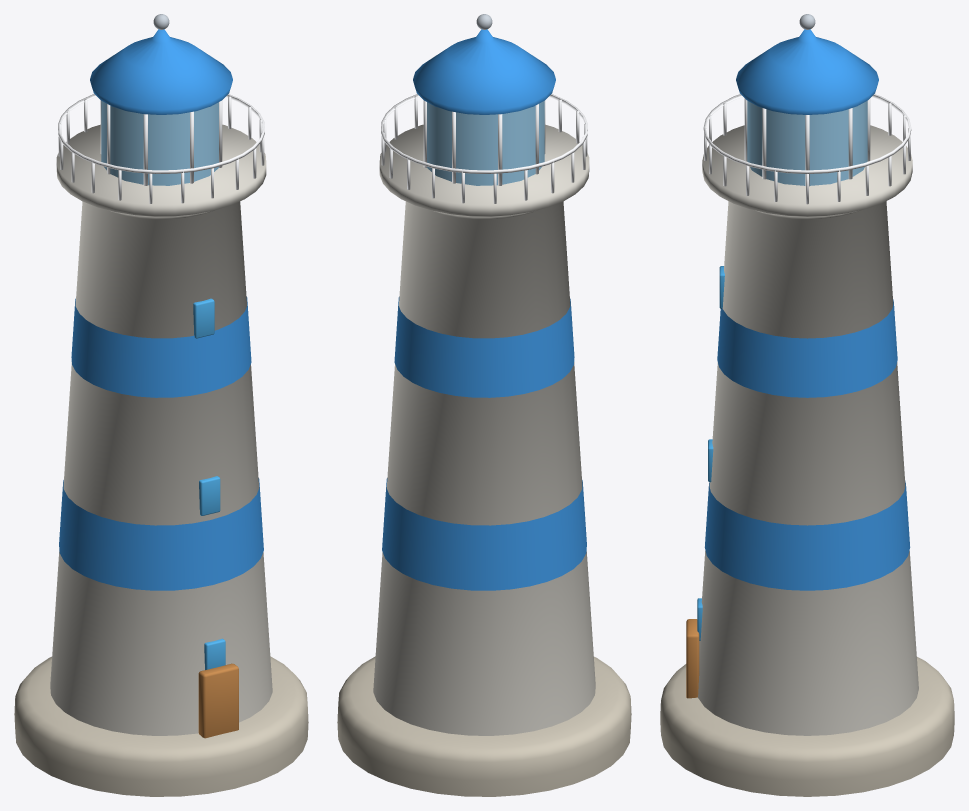
Rendered from lighthouse.glb.
3 renders of one model, left to right at view 1: azimuth 30°, elevation 25°; view 2: azimuth 150°, elevation 25°; view 3: azimuth 270°, elevation 25°, orthographic.
Visible parts, largest first — view 1: lighthouse; view 2: lighthouse; view 3: lighthouse.
Boxes of the visible parts, left/top/right/bottom form: lighthouse: left=14, top=14, right=308, bottom=796; lighthouse: left=337, top=14, right=631, bottom=796; lighthouse: left=660, top=14, right=954, bottom=796.
Bounding box in the file's own units: 9.25 × 24.95 × 9.25.
